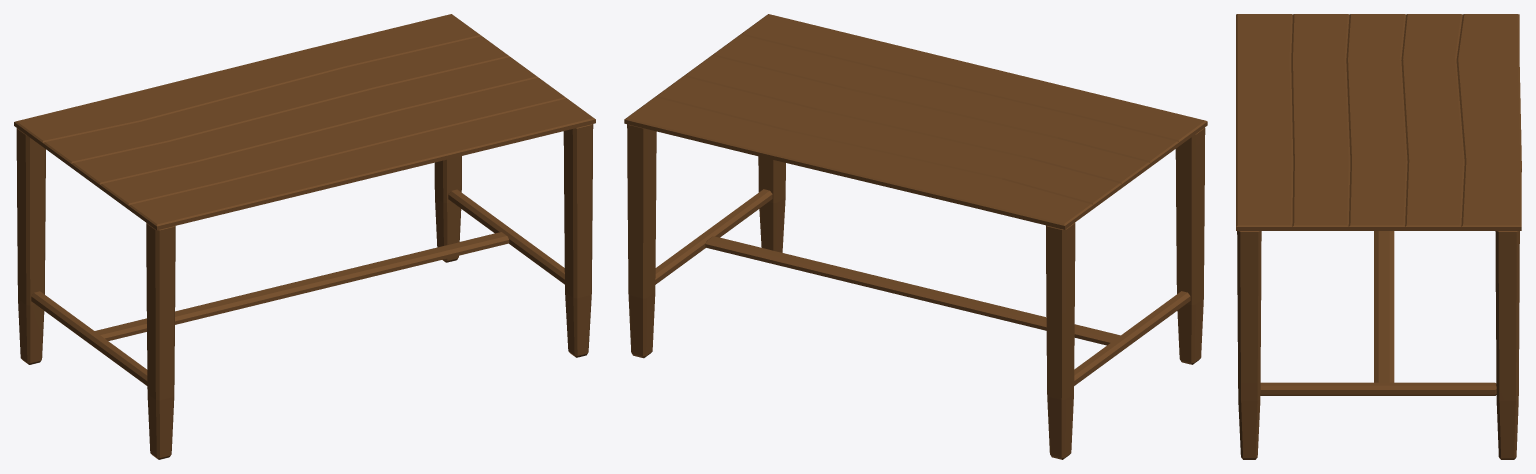
Rendered from table_a.gltf.
The picture shows the model from 3 angles, left to right: view 1: azimuth 30°, elevation 25°; view 2: azimuth 150°, elevation 25°; view 3: azimuth 270°, elevation 25°; orthographic projection.
Parts seen in each view (by area): view 1: table_a001; view 2: table_a001; view 3: table_a001.
Boxes of the visible parts, x1,y1,x2,y2 form: table_a001: (14, 14, 595, 459); table_a001: (624, 14, 1207, 459); table_a001: (1236, 14, 1521, 459).
Bounding box in the file's own units: 1.24 × 0.6416 × 0.7021.
1 material, 1 textured.
